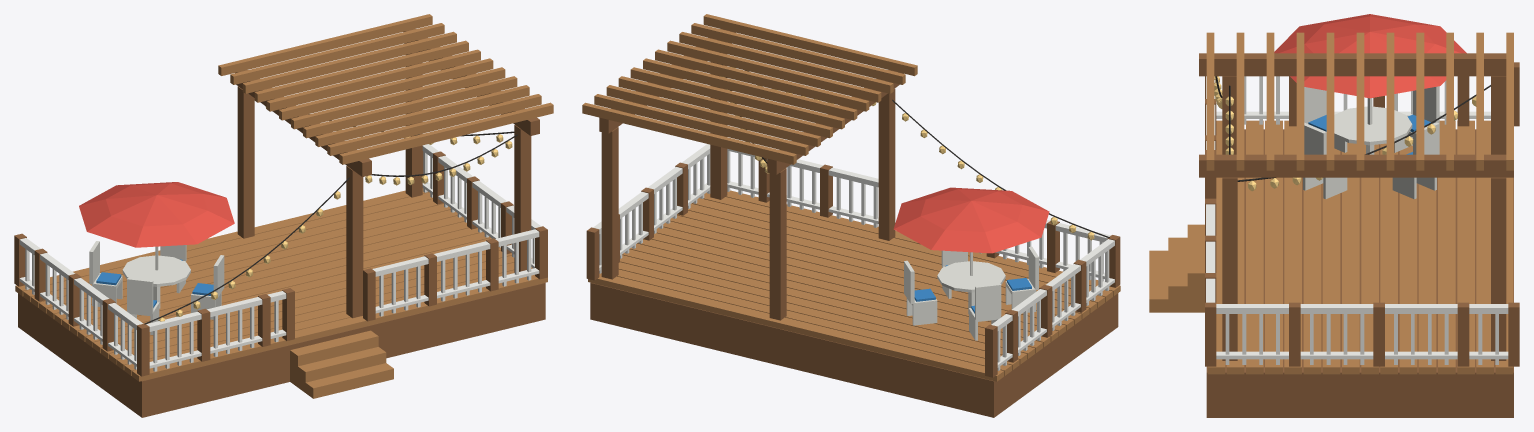
File: deck-pergola.glb
3 renders of one model, left to right at view 1: azimuth 30°, elevation 25°; view 2: azimuth 150°, elevation 25°; view 3: azimuth 270°, elevation 25°, orthographic. The views are drawn at different scales.
Parts seen in each view (by area): view 1: DeckPergola_Deck, DeckPergola_DeckDark, DeckPergola_Rail, DeckPergola_Umbrella, DeckPergola_Patio, DeckPergola_Bulbs, DeckPergola_Wire, DeckPergola_Cushion; view 2: DeckPergola_Deck, DeckPergola_DeckDark, DeckPergola_Rail, DeckPergola_Umbrella, DeckPergola_Patio, DeckPergola_Bulbs, DeckPergola_Cushion; view 3: DeckPergola_Deck, DeckPergola_DeckDark, DeckPergola_Rail, DeckPergola_Umbrella, DeckPergola_Patio, DeckPergola_Bulbs, DeckPergola_Wire, DeckPergola_Cushion.
Part boxes in pixels (x1=…): DeckPergola_Deck: x1=15, y1=14, x2=553, y2=398; DeckPergola_DeckDark: x1=14, y1=29, x2=547, y2=417; DeckPergola_Rail: x1=19, y1=144, x2=541, y2=371; DeckPergola_Umbrella: x1=79, y1=182, x2=234, y2=247; DeckPergola_Patio: x1=89, y1=241, x2=224, y2=334; DeckPergola_Bulbs: x1=158, y1=106, x2=512, y2=321; DeckPergola_Wire: x1=144, y1=114, x2=517, y2=324; DeckPergola_Cushion: x1=96, y1=259, x2=213, y2=307; DeckPergola_Deck: x1=582, y1=14, x2=1120, y2=381; DeckPergola_DeckDark: x1=586, y1=29, x2=1120, y2=417; DeckPergola_Rail: x1=593, y1=144, x2=1114, y2=370; DeckPergola_Umbrella: x1=893, y1=187, x2=1049, y2=253; DeckPergola_Patio: x1=904, y1=246, x2=1038, y2=340; DeckPergola_Bulbs: x1=720, y1=66, x2=1094, y2=240; DeckPergola_Cushion: x1=914, y1=265, x2=1031, y2=313; DeckPergola_Deck: x1=1149, y1=32, x2=1513, y2=374; DeckPergola_DeckDark: x1=1199, y1=53, x2=1519, y2=417; DeckPergola_Rail: x1=1206, y1=76, x2=1508, y2=364; DeckPergola_Umbrella: x1=1274, y1=14, x2=1466, y2=98; DeckPergola_Patio: x1=1303, y1=86, x2=1439, y2=199; DeckPergola_Bulbs: x1=1214, y1=76, x2=1476, y2=191; DeckPergola_Wire: x1=1215, y1=76, x2=1490, y2=181; DeckPergola_Cushion: x1=1308, y1=114, x2=1430, y2=154.
Bounding box in the file's own units: 30.8 × 15.1 × 19.3.
